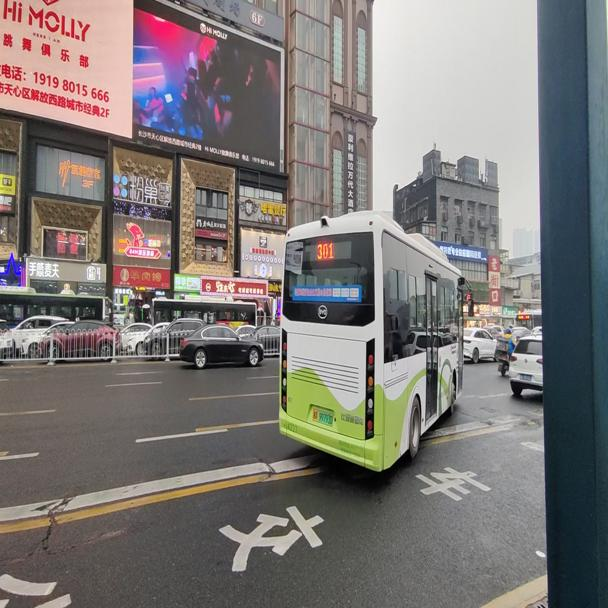bus: (276, 206, 473, 474), (514, 310, 543, 328)
screen: (317, 240, 334, 260)
